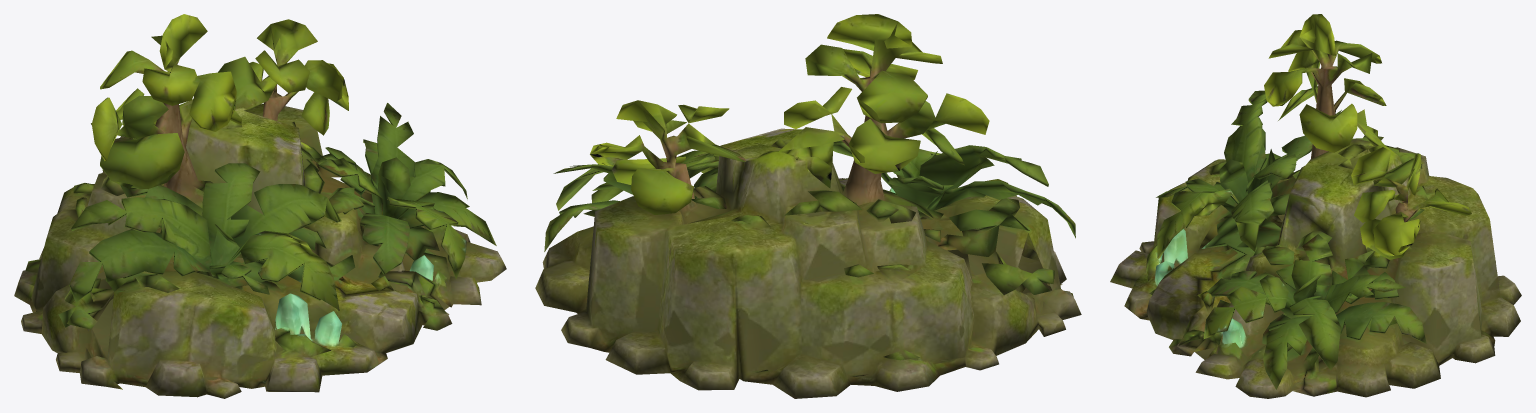
The model's file is decor_1.fbx.
The picture shows the model from 3 angles, left to right: view 1: azimuth 30°, elevation 25°; view 2: azimuth 150°, elevation 25°; view 3: azimuth 270°, elevation 25°; orthographic projection. The views are drawn at different scales.
Parts seen in each view (by area): view 1: decor_1; view 2: decor_1; view 3: decor_1.
Part boxes in pixels (x1,y1,x2,y2): decor_1: (14,14,506,398); decor_1: (535,14,1081,398); decor_1: (1110,14,1521,398).
Bounding box in the file's own units: 1.4 × 0.8712 × 1.27.
Materials: 1 (1 with a texture image).
